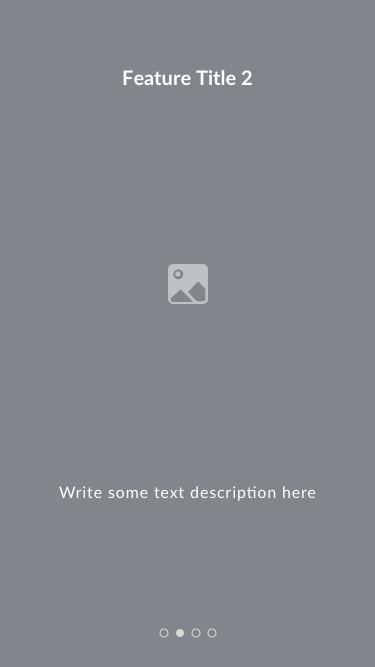Image: (168, 263, 209, 305)
PageIndicator: (160, 627, 218, 638)
Text: (60, 485, 316, 500), (123, 70, 254, 86)
